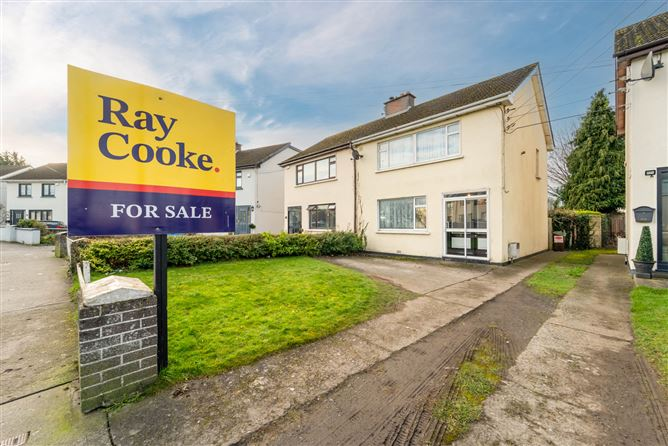property sign: (59, 53, 245, 251)
